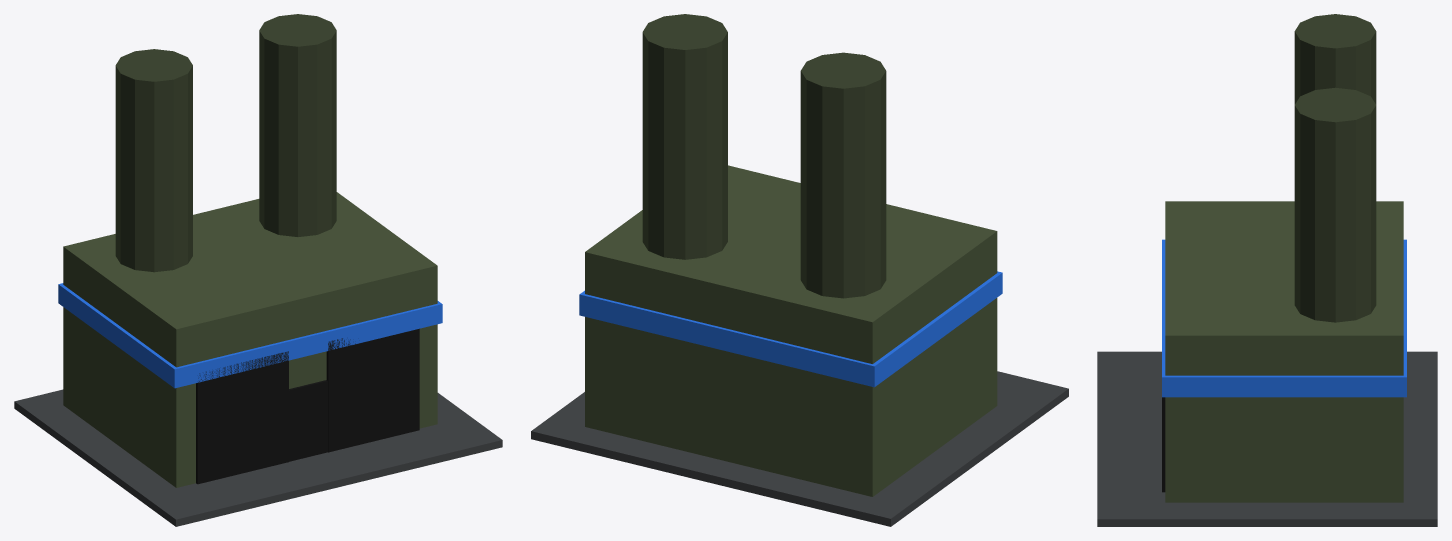
Rendered from kp_vehicle_plant.glb.
3 renders of one model, left to right at view 1: azimuth 30°, elevation 25°; view 2: azimuth 150°, elevation 25°; view 3: azimuth 270°, elevation 25°, orthographic. The views are drawn at different scales.
Parts seen in each view (by area): view 1: main, base, stack_0, stack_1, garage_0, garage_1, team_band, door; view 2: main, stack_0, stack_1, base, team_band; view 3: main, base, stack_1, team_band, stack_0.
Part boxes in pixels (x1,y1,x2,y2): main: (63,192,437,487); base: (14,389,502,526); stack_0: (115,49,192,272); stack_1: (259,14,336,236); garage_0: (196,351,288,484); garage_1: (326,328,419,452); team_band: (58,283,442,388); door: (289,380,327,461); main: (585,165,997,496); stack_0: (800,52,886,298); stack_1: (642,14,727,259); base: (531,371,1068,526); team_band: (579,271,1002,387); main: (1165,201,1403,502); base: (1097,351,1437,526); stack_1: (1294,87,1376,322); team_band: (1162,239,1406,397); stack_0: (1294,14,1376,104).
Bounding box in the file's own units: 14 × 14.6 × 12.
